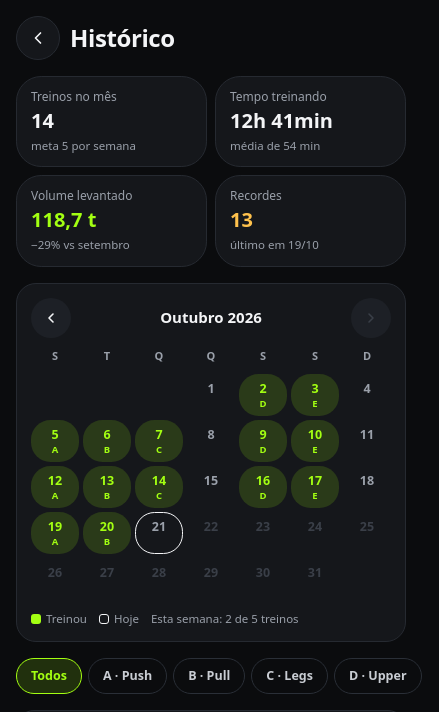
Histórico de treinos › volta um mês e pode avançar de novo
The image size is (439, 712).
Click the button named "Mês anterior".
click(51, 318)  # box [31,298,71,338]
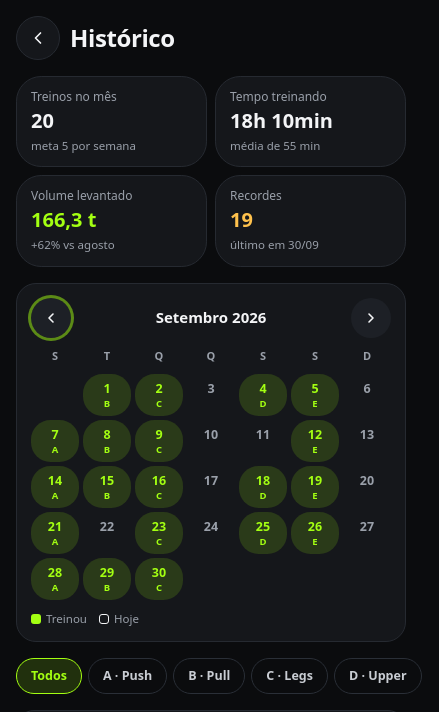
Expected: the button named "Próximo mês" is enabled, [351,298,391,338]
Now the heading "Setembro 2026" is shown, box [156,306,266,329]
